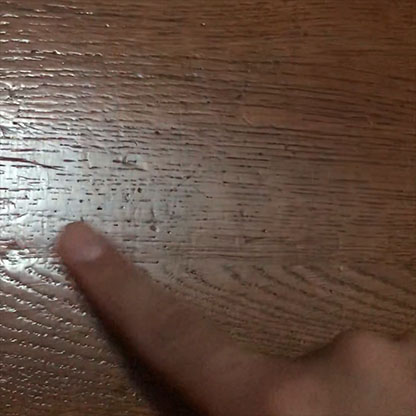fingertip: (42, 211, 127, 280)
